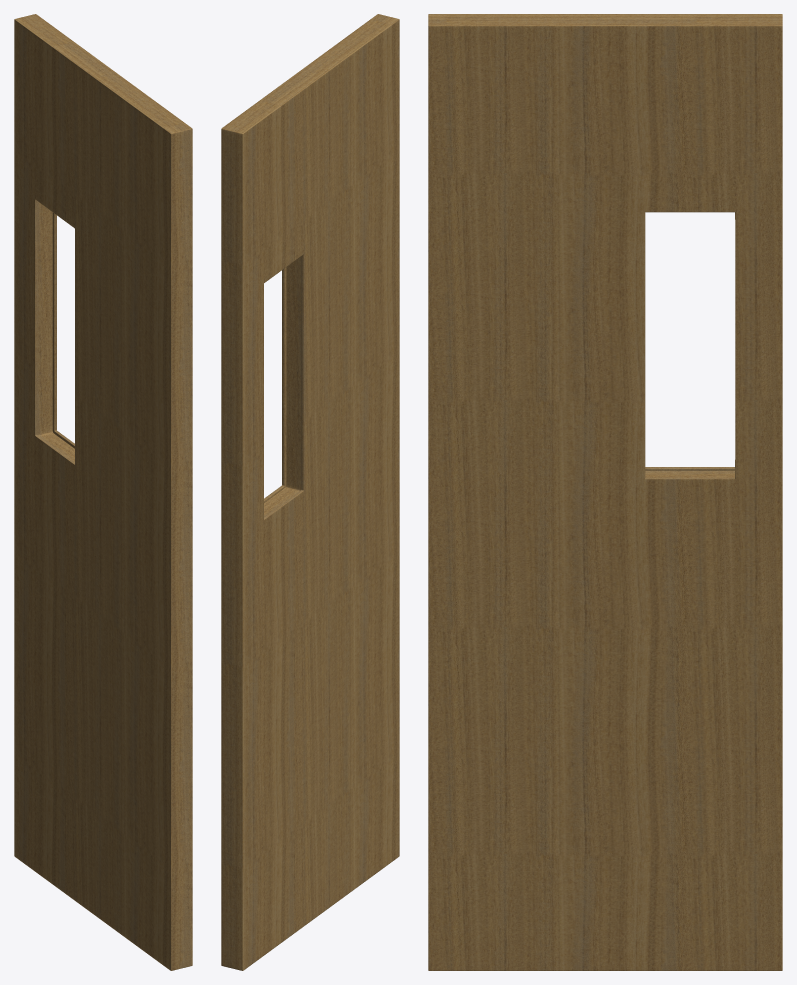
Rendered from Door-transformed.glb.
The picture shows the model from 3 angles, left to right: view 1: azimuth 30°, elevation 25°; view 2: azimuth 150°, elevation 25°; view 3: azimuth 270°, elevation 25°; orthographic projection. The views are drawn at different scales.
Parts seen in each view (by area): view 1: Door double; view 2: Door double; view 3: Door double.
Part boxes in pixels (box(x1,y1,x2,y2)): Door double: box(14, 14, 192, 970); Door double: box(221, 14, 399, 970); Door double: box(428, 14, 782, 970).
Size of the model in its own units: 0.0689 by 2.5 by 0.85.
1 material, 1 textured.
